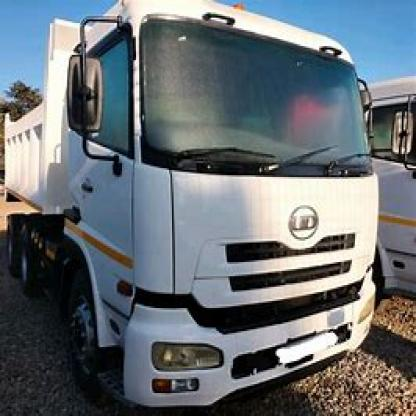dump_truck: (3, 2, 385, 414)
